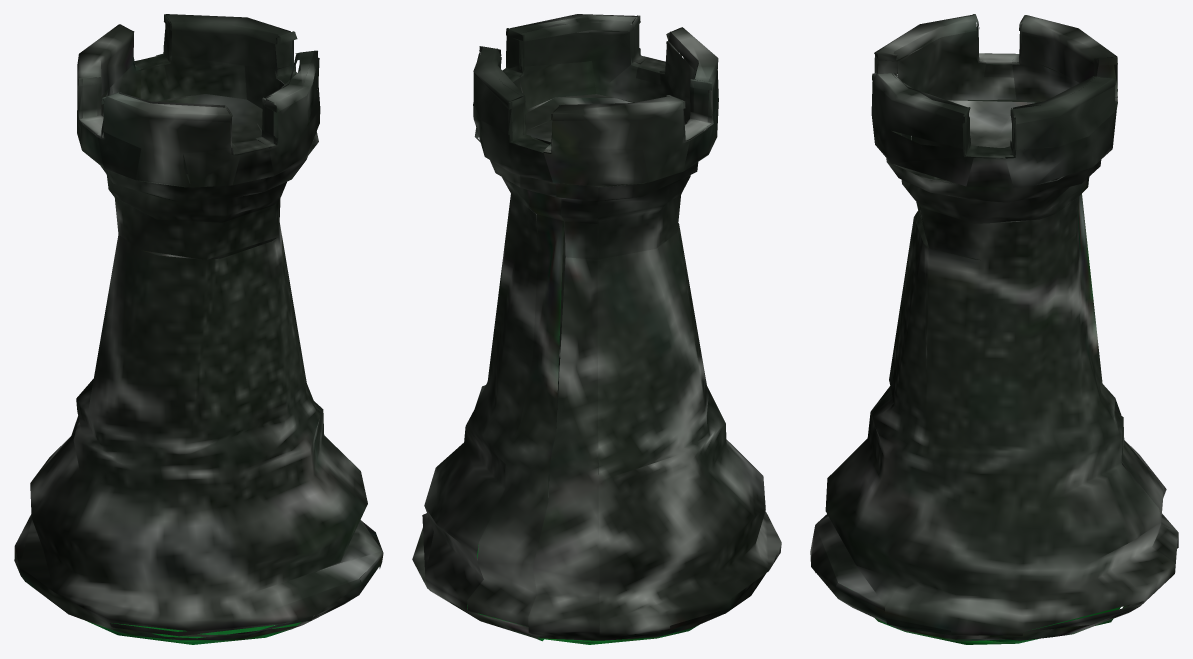
The picture shows the model from 3 angles, left to right: view 1: azimuth 30°, elevation 25°; view 2: azimuth 150°, elevation 25°; view 3: azimuth 270°, elevation 25°; orthographic projection.
Visible parts, largest first — view 1: BR.001; view 2: BR.001; view 3: BR.001.
Boxes of the visible parts, x1,y1,x2,y2 form: BR.001: (14, 14, 383, 644); BR.001: (412, 14, 781, 644); BR.001: (810, 14, 1178, 644).
Bounding box in the file's own units: 0.0374 × 0.0588 × 0.0375.
Materials: 1 (1 with a texture image).
